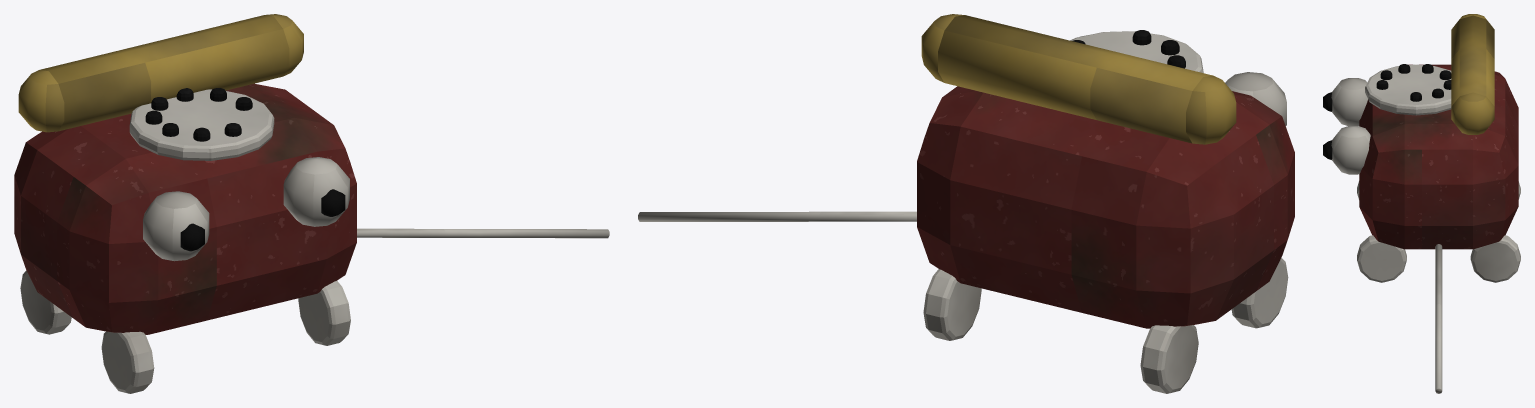
The model's file is TY02_toy_telephone.glb.
The picture shows the model from 3 angles, left to right: view 1: azimuth 30°, elevation 25°; view 2: azimuth 150°, elevation 25°; view 3: azimuth 270°, elevation 25°; orthographic projection. The views are drawn at different scales.
Parts seen in each view (by area): view 1: TY02_toy_telephone; view 2: TY02_toy_telephone; view 3: TY02_toy_telephone.
Boxes of the visible parts, left/top/right/bottom form: TY02_toy_telephone: left=14, top=14, right=609, bottom=393; TY02_toy_telephone: left=638, top=14, right=1294, bottom=393; TY02_toy_telephone: left=1323, top=14, right=1520, bottom=393.
Size of the model in its own units: 0.3 by 0.1422 by 0.13.
Materials: 4 (4 with a texture image).
